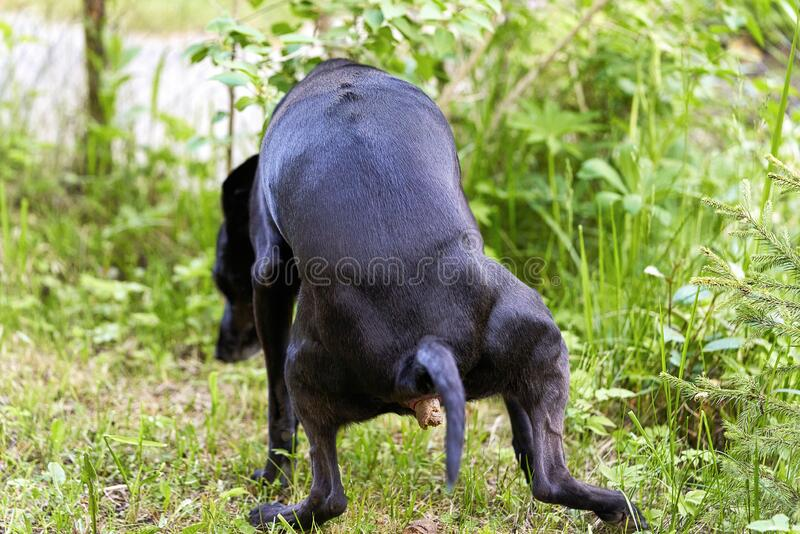dog_pooping: (207, 54, 654, 534)
